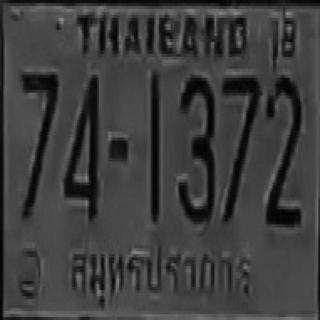N01: (145, 65, 161, 232)
N02: (263, 66, 310, 238)
N03: (172, 67, 219, 228)
N04: (66, 55, 110, 229)
N07: (11, 58, 61, 225), (223, 66, 262, 236)
P57: (61, 237, 260, 310)
